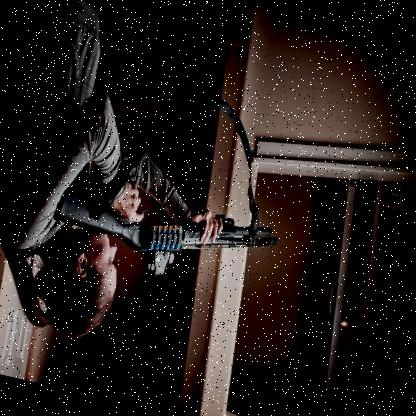rifle: (40, 156, 289, 300)
